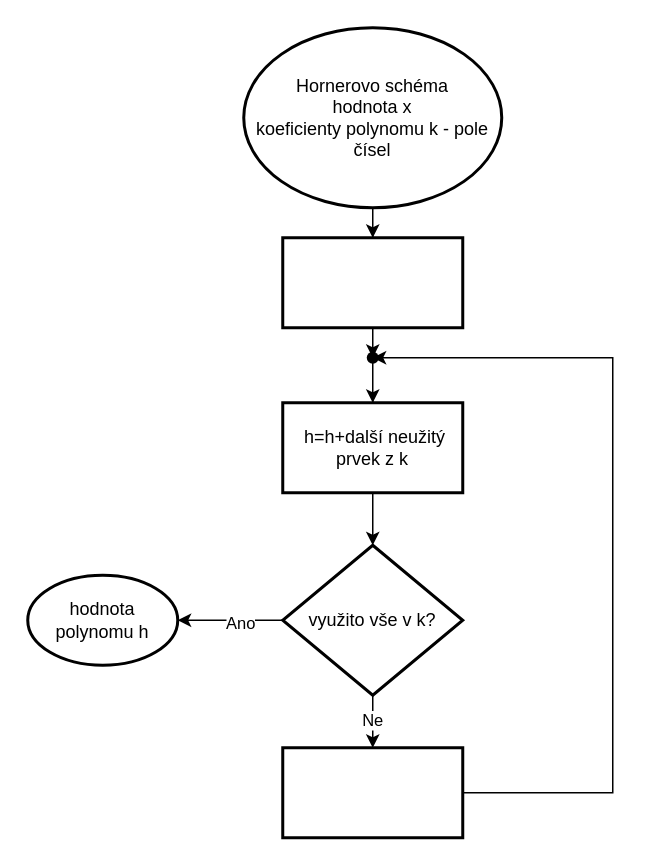
Image size: 651x864. Some labels were removed from this diagram. The box of each missing label's shape, as (x1, y1, x2, y2) in pixels:
h=0: (280, 236, 464, 328)
h=h*x: (280, 746, 464, 838)
